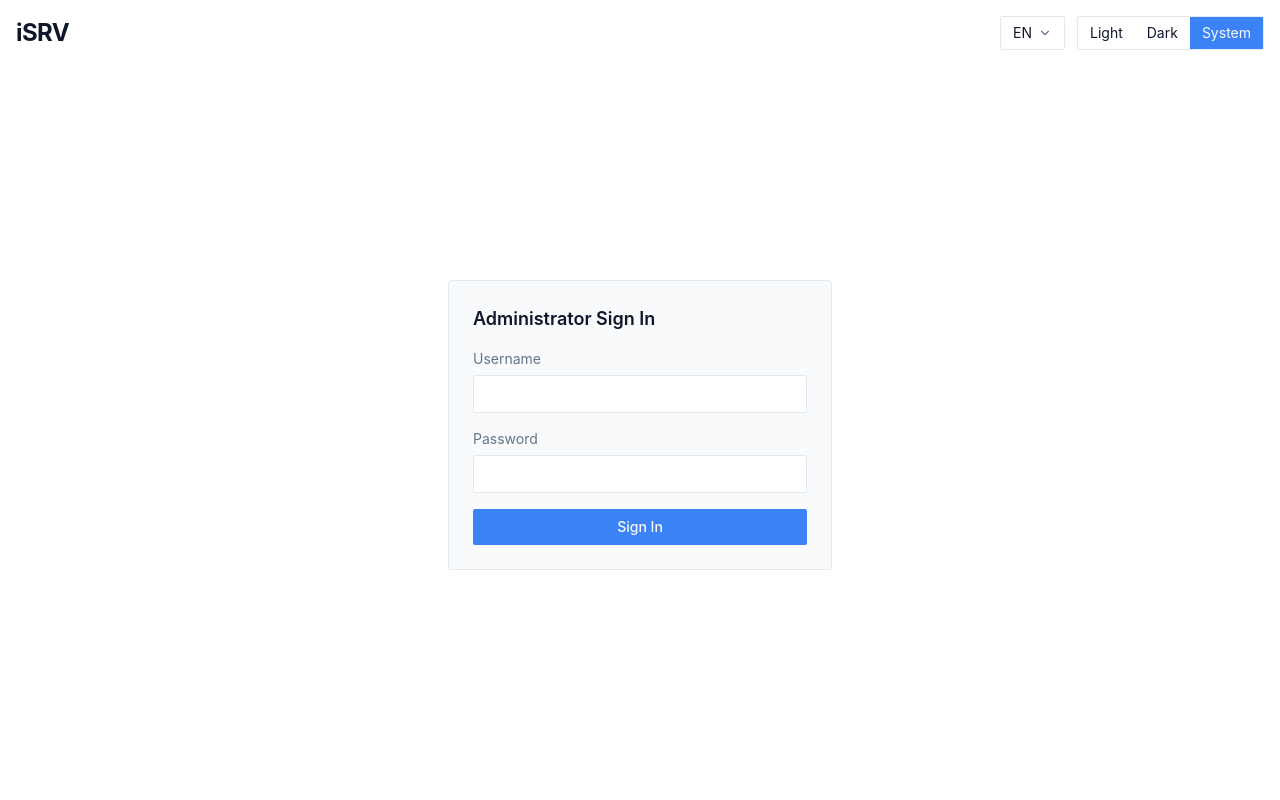
admin login › logs in with valid credentials and shows the files dashboard
expect the heading "Administrator Sign In" is shown: met, box left=473, top=308, right=655, bottom=329
In the field labelled "Username": [640, 394] box left=473, top=375, right=807, bottom=413, type "admin"
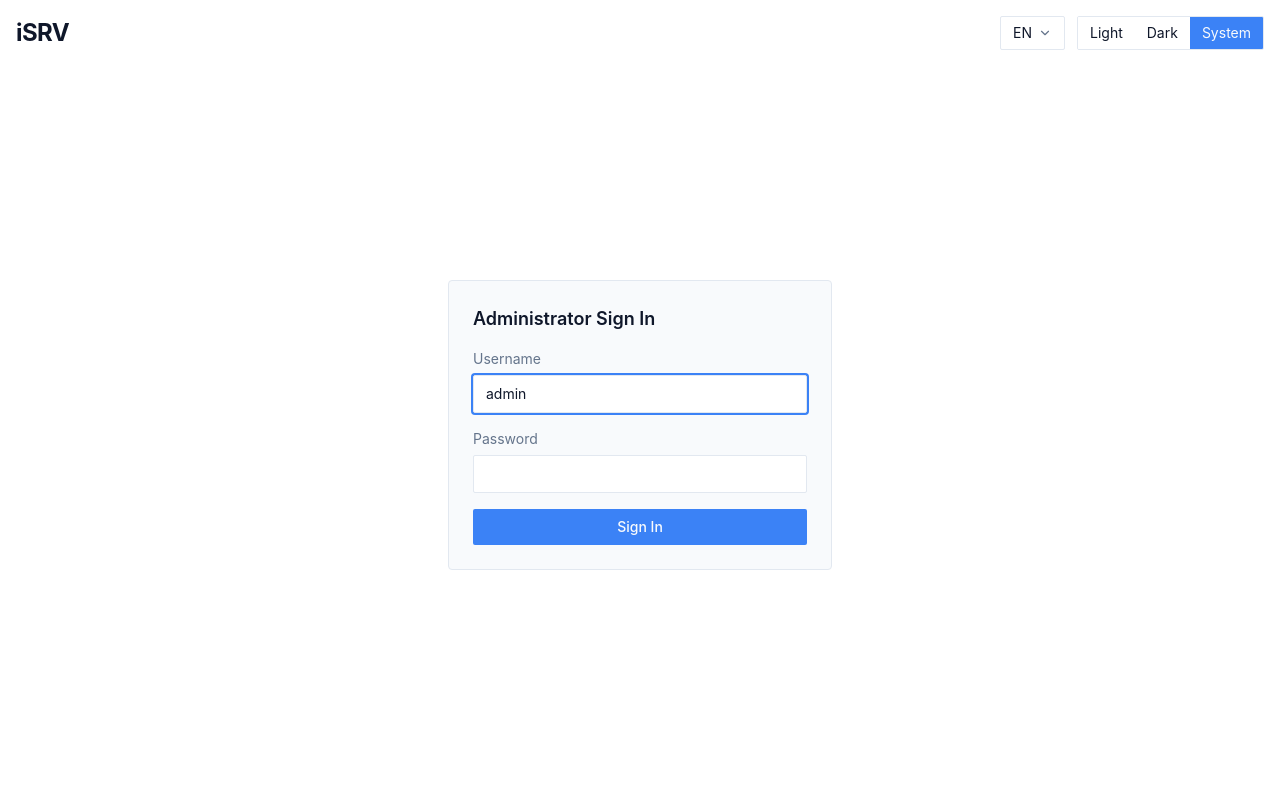
In the password field labelled "Password": [640, 474] box left=473, top=455, right=807, bottom=493, type "secret"
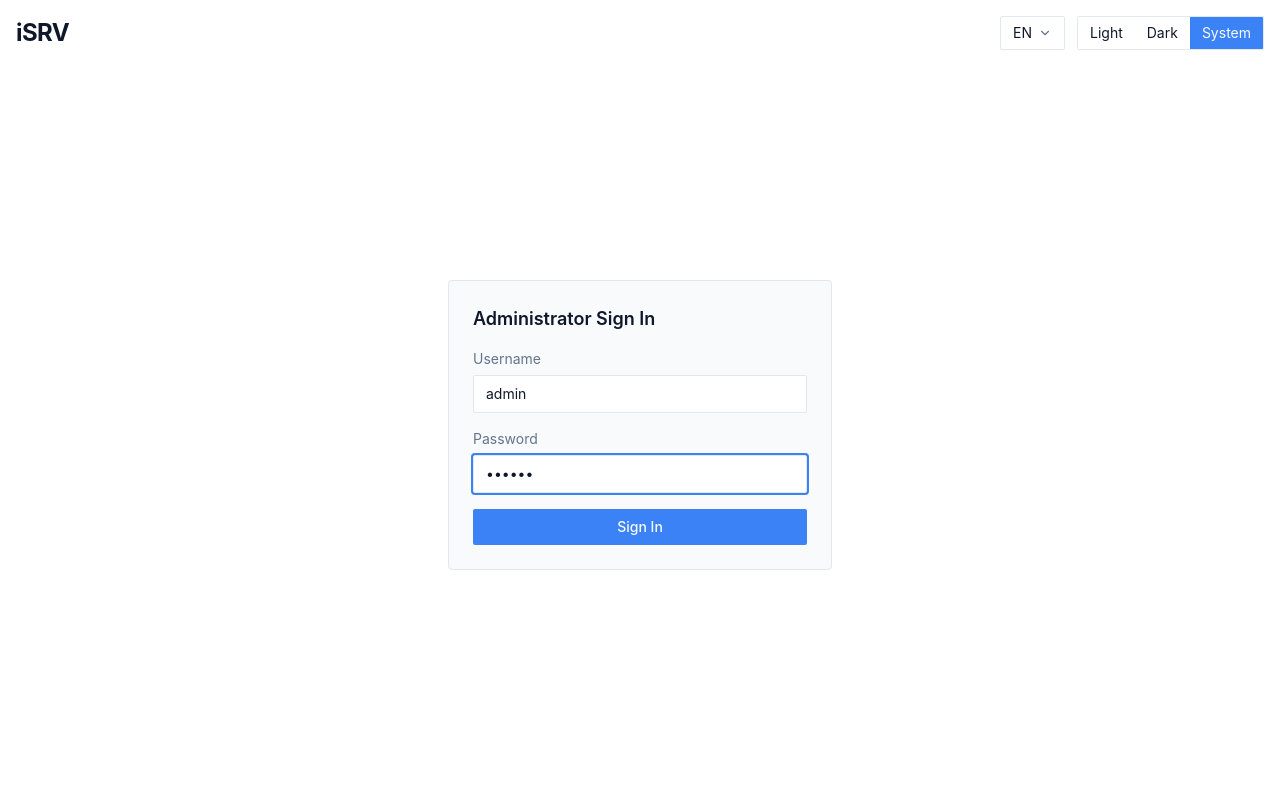
Click the button "Sign In": [640, 527] box left=473, top=509, right=807, bottom=545
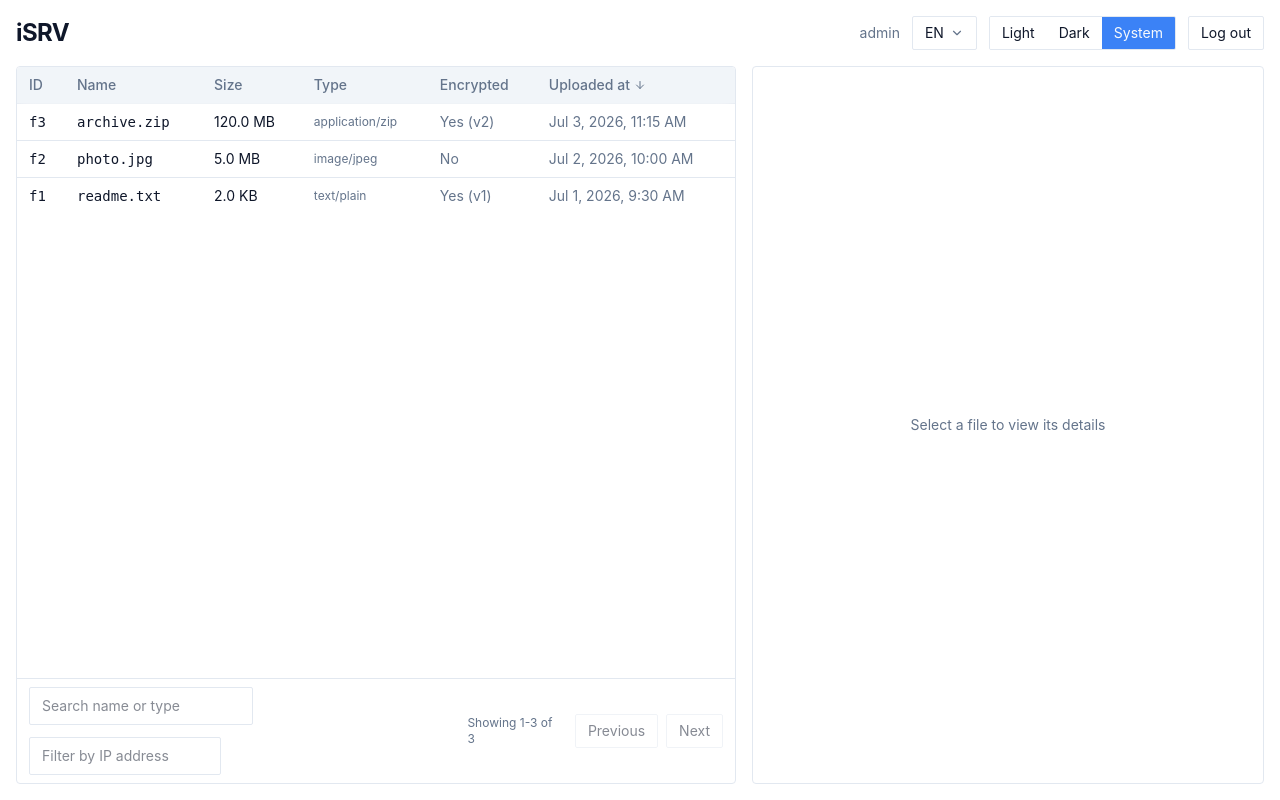
expect the text "readme.txt" is shown: met, box left=77, top=188, right=161, bottom=204
expect the text "photo.jpg" is shown: met, box left=77, top=151, right=153, bottom=167
expect the text "Showing 1-3 of 3" is shown: met, box left=467, top=715, right=563, bottom=747
